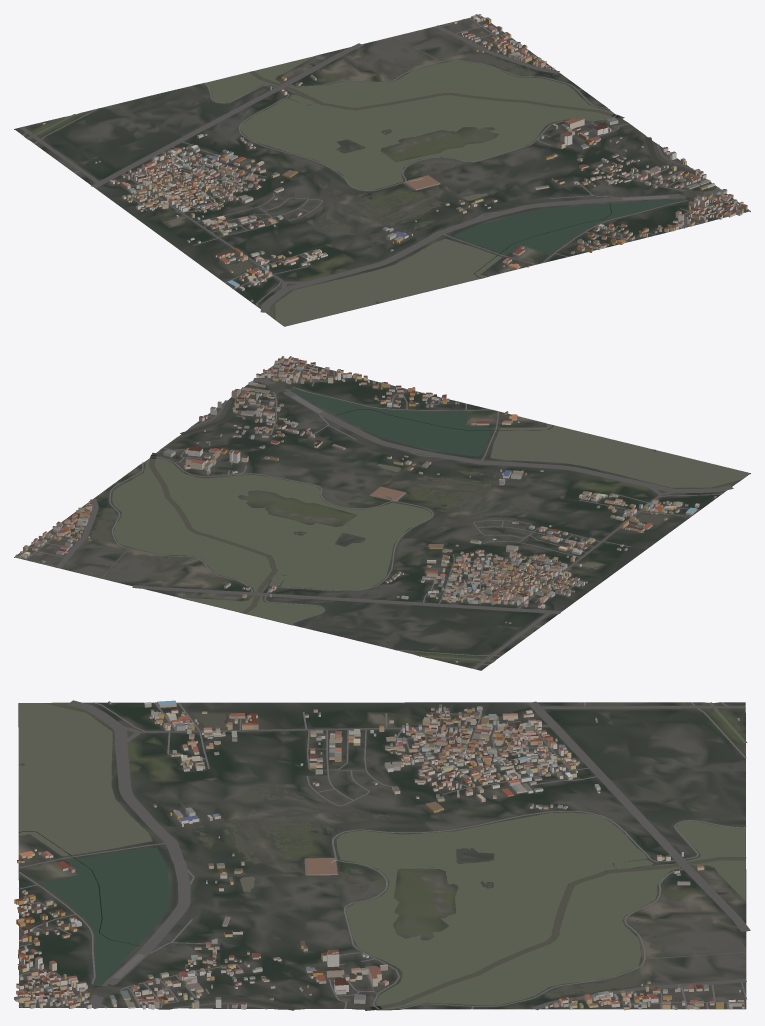
The picture shows the model from 3 angles, top to bottom: view 1: azimuth 30°, elevation 25°; view 2: azimuth 150°, elevation 25°; view 3: azimuth 270°, elevation 25°; orthographic projection. The views are drawn at different scales.
Parts seen in each view (by area): view 1: ground, water, buildings, roads; view 2: ground, water, buildings, roads; view 3: ground, water, buildings, roads.
Part boxes in pixels (bbox=[...]): ground: bbox=[14, 16, 750, 326]; water: bbox=[26, 48, 693, 326]; buildings: bbox=[42, 14, 747, 301]; roads: bbox=[20, 18, 749, 312]; ground: bbox=[14, 358, 750, 670]; water: bbox=[91, 389, 749, 661]; buildings: bbox=[15, 356, 716, 662]; roads: bbox=[25, 358, 733, 669]; ground: bbox=[18, 702, 746, 1010]; water: bbox=[19, 702, 747, 1010]; buildings: bbox=[14, 700, 744, 1010]; roads: bbox=[17, 700, 750, 1010].
Bounding box in the file's own units: 1417 × 31.6 × 1420.
